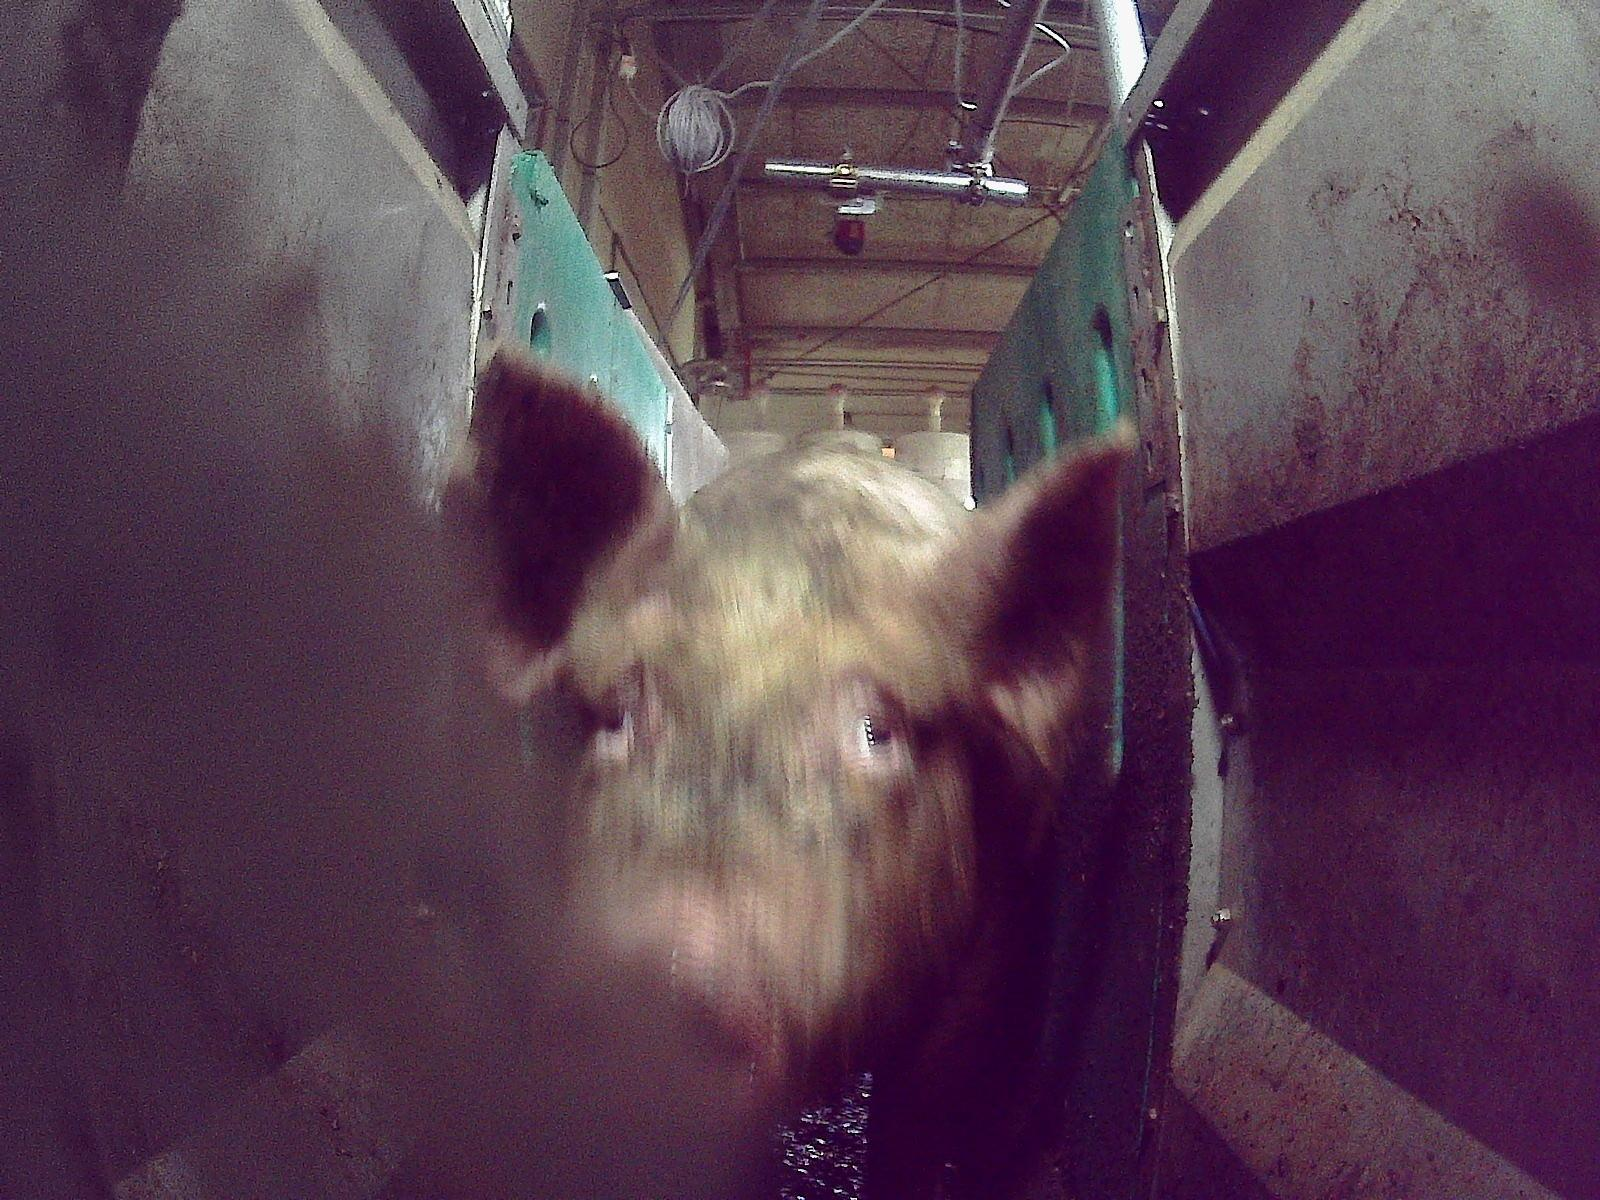Face: (542, 544, 994, 1125)
